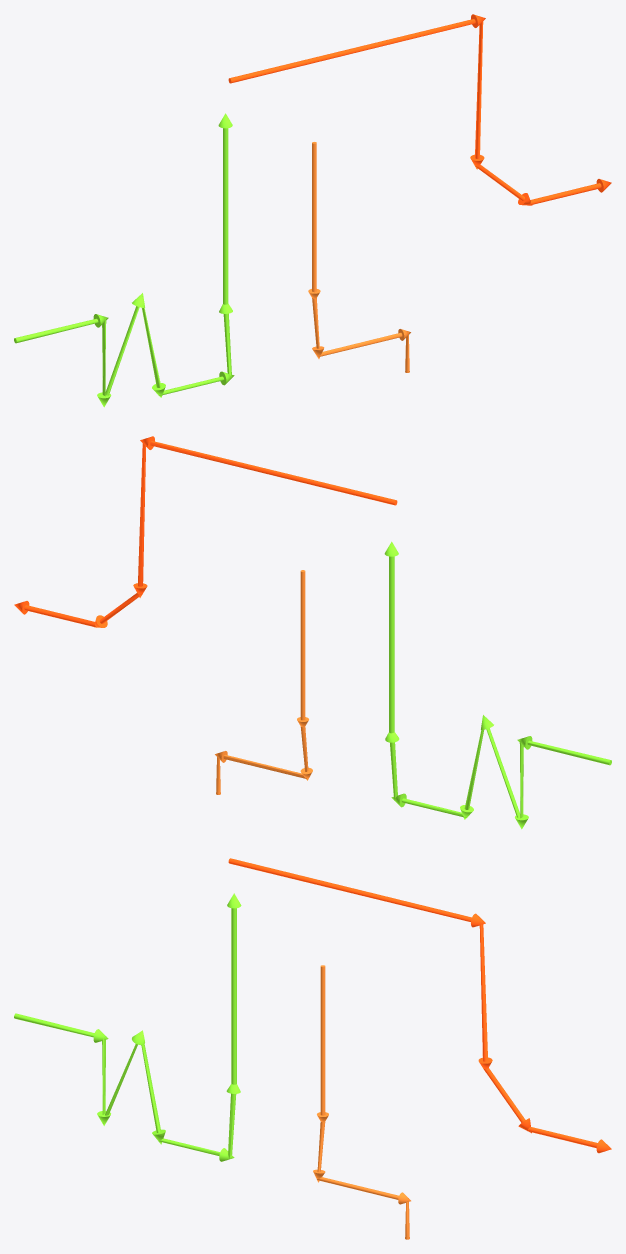
The model's file is nitrogen_generation_system_flow.glb.
3 renders of one model, top to bottom at view 1: azimuth 30°, elevation 25°; view 2: azimuth 150°, elevation 25°; view 3: azimuth 330°, elevation 25°, orthographic.
Parts seen in each view (by area): view 1: feed_air, nitrogen, o2_rich_exhaust; view 2: feed_air, nitrogen, o2_rich_exhaust; view 3: feed_air, nitrogen, o2_rich_exhaust.
Part boxes in pixels (box(x1,y1,x2,y2)): feed_air: box(14, 113, 234, 407); nitrogen: box(228, 14, 611, 205); o2_rich_exhaust: box(308, 142, 410, 372); feed_air: box(384, 541, 611, 829); nitrogen: box(14, 436, 397, 627); o2_rich_exhaust: box(215, 570, 312, 794); feed_air: box(14, 893, 241, 1161); nitrogen: box(228, 858, 611, 1153); o2_rich_exhaust: box(313, 965, 410, 1239).
Bounding box in the file's own units: 4.03 × 2.2 × 0.1332.
